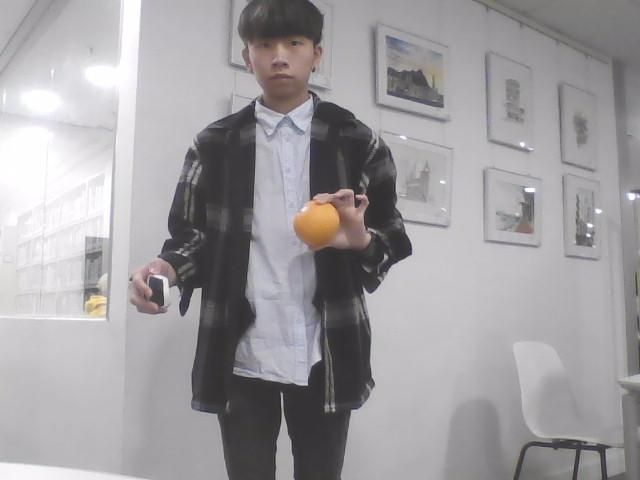orange: (294, 201, 341, 247)
